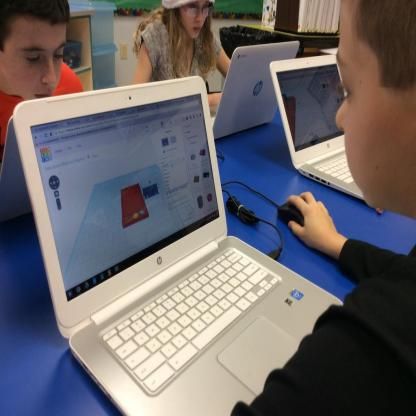board: (13, 73, 343, 414), (270, 55, 364, 202), (212, 42, 300, 140), (0, 116, 31, 222)
